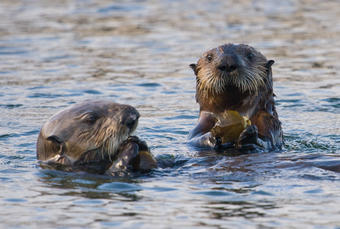otter: (36, 78, 169, 189), (182, 37, 296, 153)
